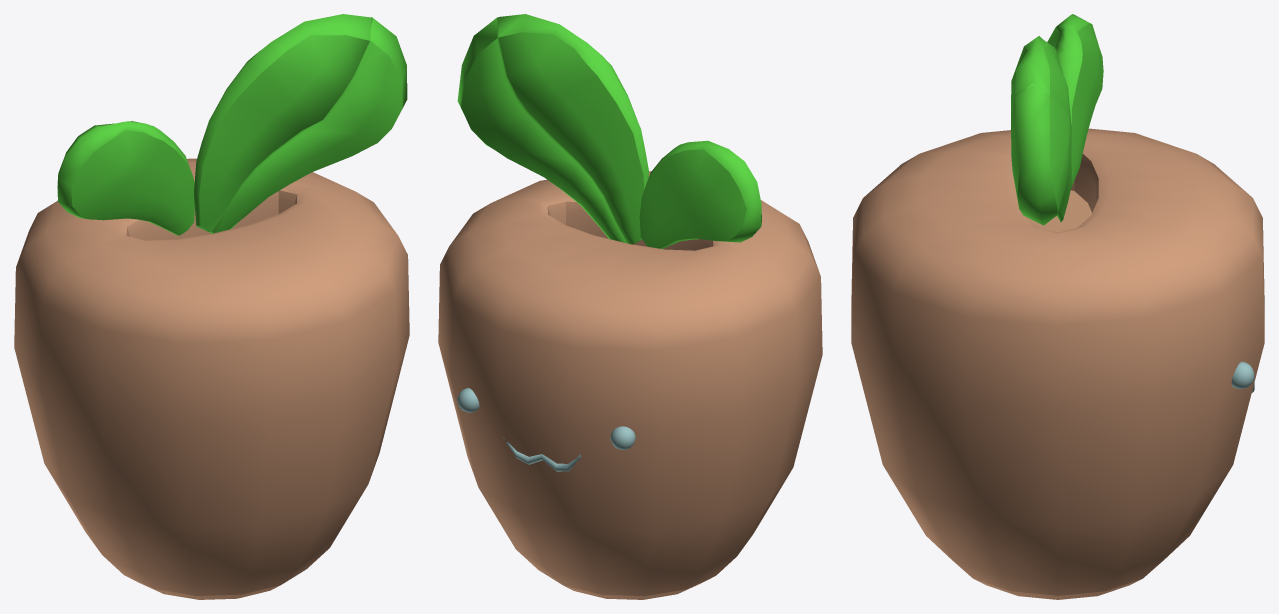
The model's file is Crop_Carrot.FBX.
3 views of the same model, side by side, from view 1: azimuth 30°, elevation 25°; view 2: azimuth 150°, elevation 25°; view 3: azimuth 270°, elevation 25° (orthographic). The views are drawn at different scales.
Parts seen in each view (by area): view 1: SoloCarrot; view 2: SoloCarrot; view 3: SoloCarrot.
Boxes of the visible parts, left/top/right/bottom form: SoloCarrot: left=14, top=14, right=409, bottom=599; SoloCarrot: left=438, top=14, right=822, bottom=599; SoloCarrot: left=851, top=14, right=1264, bottom=599.
Bounding box in the file's own units: 81.69 × 119 × 76.33.
